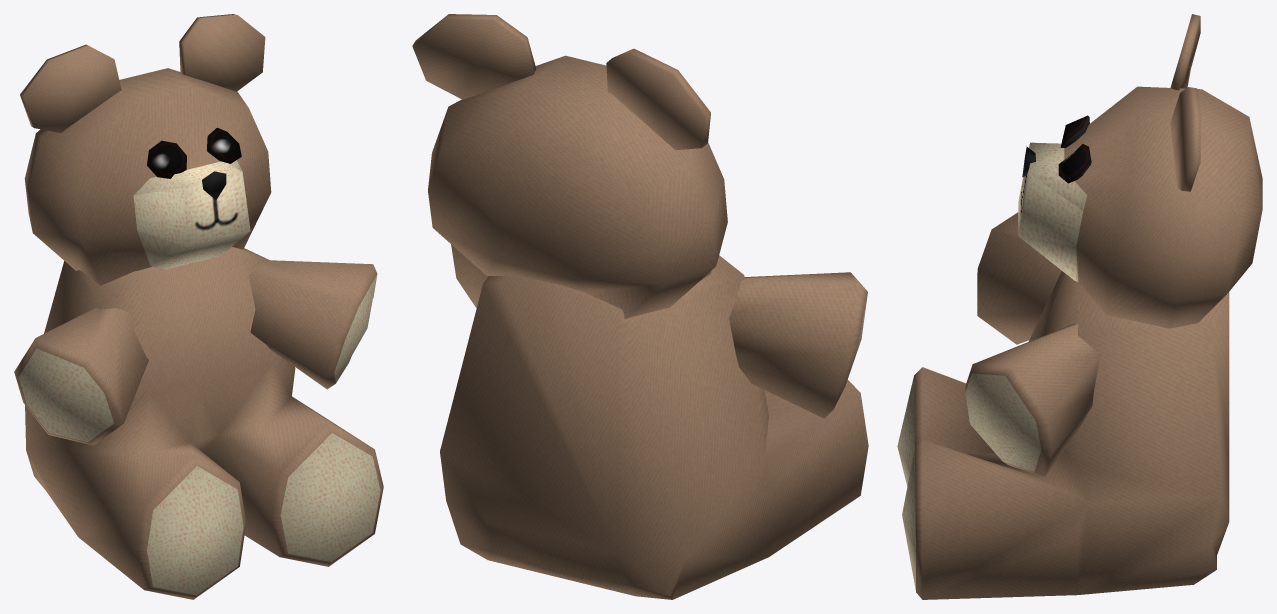
File: Buddy_Bear_A.FBX
3 renders of one model, left to right at view 1: azimuth 30°, elevation 25°; view 2: azimuth 150°, elevation 25°; view 3: azimuth 270°, elevation 25°, orthographic. The views are drawn at different scales.
Visible parts, largest first — view 1: Buddy_ Bear; view 2: Buddy_ Bear; view 3: Buddy_ Bear.
Part boxes in pixels (<box>): Buddy_ Bear: <box>14,14,383,599</box>; Buddy_ Bear: <box>412,14,868,599</box>; Buddy_ Bear: <box>897,14,1262,599</box>.
Bounding box in the file's own units: 55.36 × 71.18 × 46.3.
